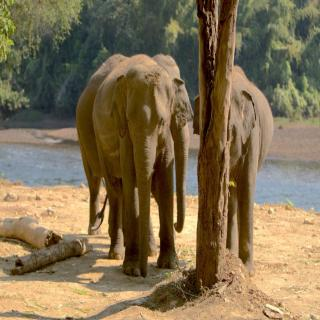Elephant: (92, 55, 181, 275)
